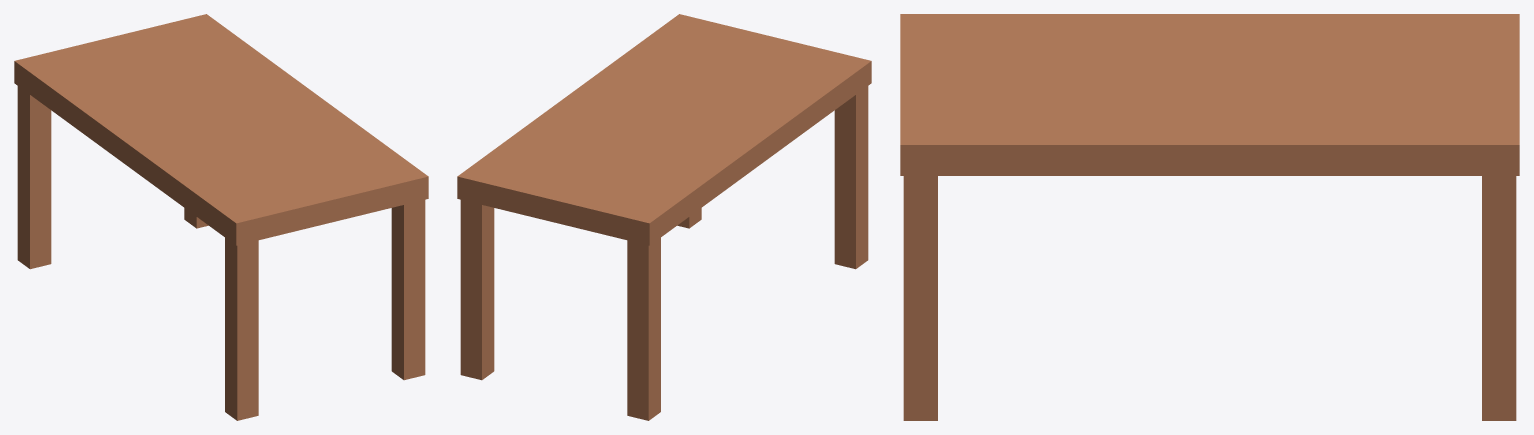
Rendered from basic_table.fbx.
3 renders of one model, left to right at view 1: azimuth 30°, elevation 25°; view 2: azimuth 150°, elevation 25°; view 3: azimuth 270°, elevation 25°, orthographic. The views are drawn at different scales.
Visible parts, largest first — view 1: Group4, Group1, Group3, Group5; view 2: Group4, Group2, Group5, Group3; view 3: Group4, Group1, Group2.
Boxes of the visible parts, x1=… form: Group4: x1=14, y1=14, x2=428, y2=245; Group1: x1=391, y1=200, x2=425, y2=380; Group3: x1=225, y1=238, x2=258, y2=420; Group5: x1=17, y1=86, x2=51, y2=269; Group4: x1=457, y1=14, x2=871, y2=245; Group2: x1=460, y1=200, x2=494, y2=380; Group5: x1=627, y1=238, x2=660, y2=420; Group3: x1=834, y1=86, x2=868, y2=269; Group4: x1=900, y1=14, x2=1519, y2=175; Group1: x1=903, y1=176, x2=937, y2=420; Group2: x1=1482, y1=176, x2=1516, y2=420.
Size of the model in its own units: 0.8415 by 0.8321 by 1.68.
